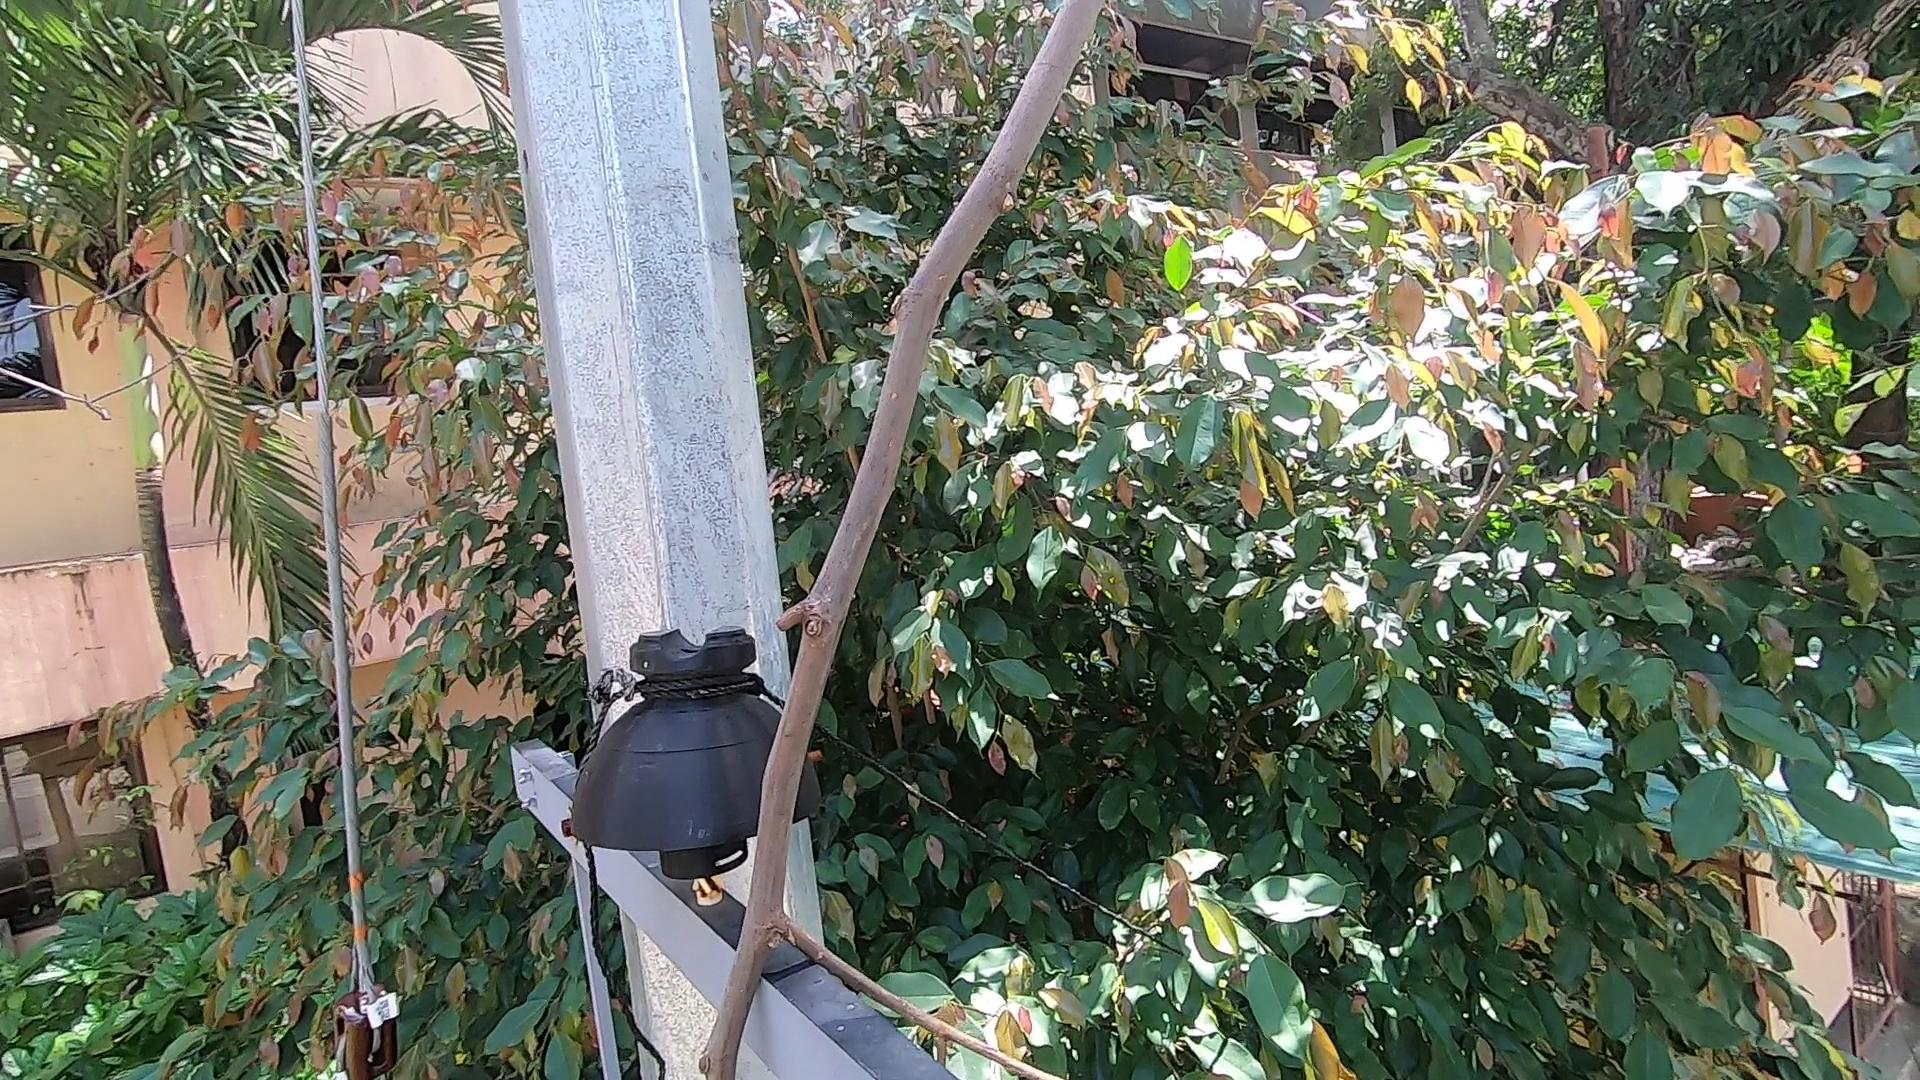tree branch: (695, 36, 1113, 1080)
